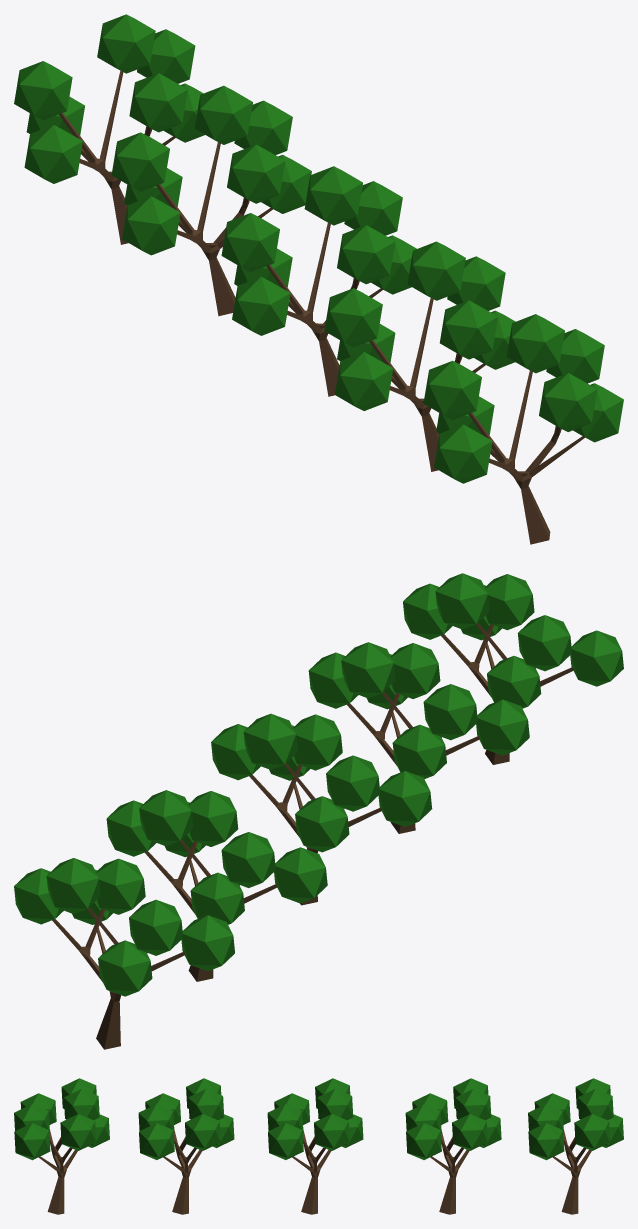
The model's file is aboles.glb.
3 views of the same model, one above another, from view 1: azimuth 30°, elevation 25°; view 2: azimuth 150°, elevation 25°; view 3: azimuth 270°, elevation 25° (orthographic). The views are drawn at different scales.
Visible parts, largest first — view 1: Arbol.001; view 2: Arbol.001; view 3: Arbol.001.
Boxes of the visible parts, bbox=[...] form: Arbol.001: bbox=[14, 14, 623, 544]; Arbol.001: bbox=[14, 573, 623, 1049]; Arbol.001: bbox=[14, 1078, 623, 1214].
Size of the model in its own units: 6.85 by 7 by 29.67.
